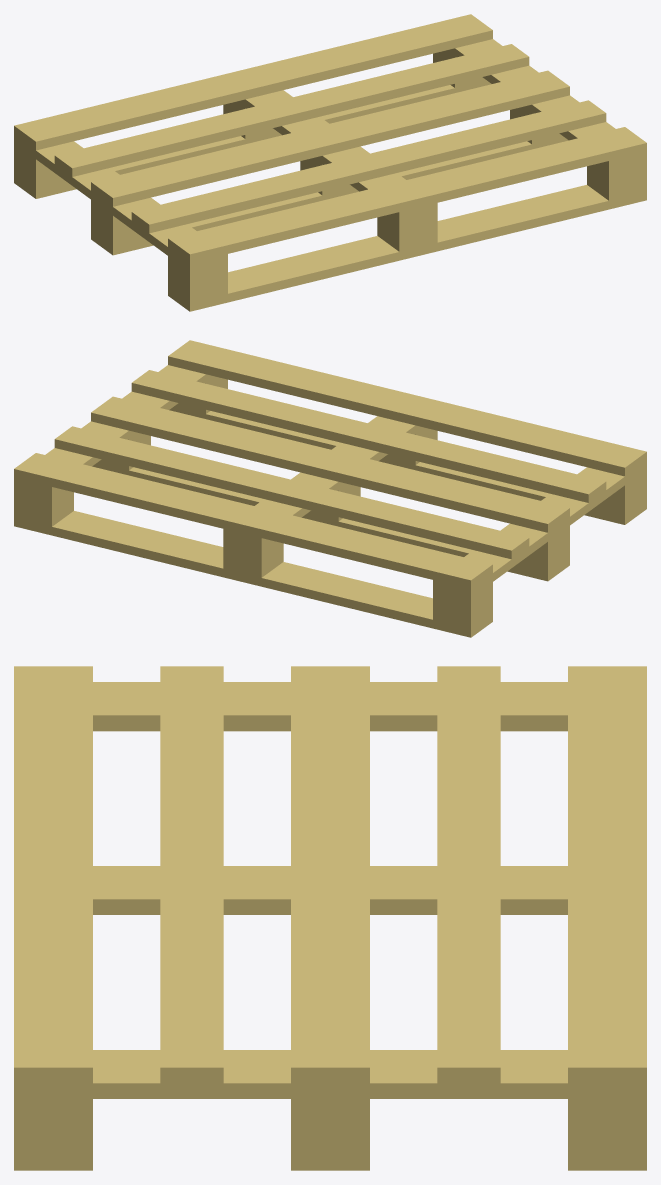
The model's file is Pallet.FBX.
3 renders of one model, top to bottom at view 1: azimuth 30°, elevation 25°; view 2: azimuth 150°, elevation 25°; view 3: azimuth 270°, elevation 25°, orthographic. The views are drawn at different scales.
Visible parts, largest first — view 1: Pallet; view 2: Pallet; view 3: Pallet.
Part boxes in pixels (<box>): Pallet: <box>14,14,646,311</box>; Pallet: <box>14,340,646,637</box>; Pallet: <box>14,666,646,1170</box>.
Size of the model in its own units: 1.2 by 0.144 by 0.8.
